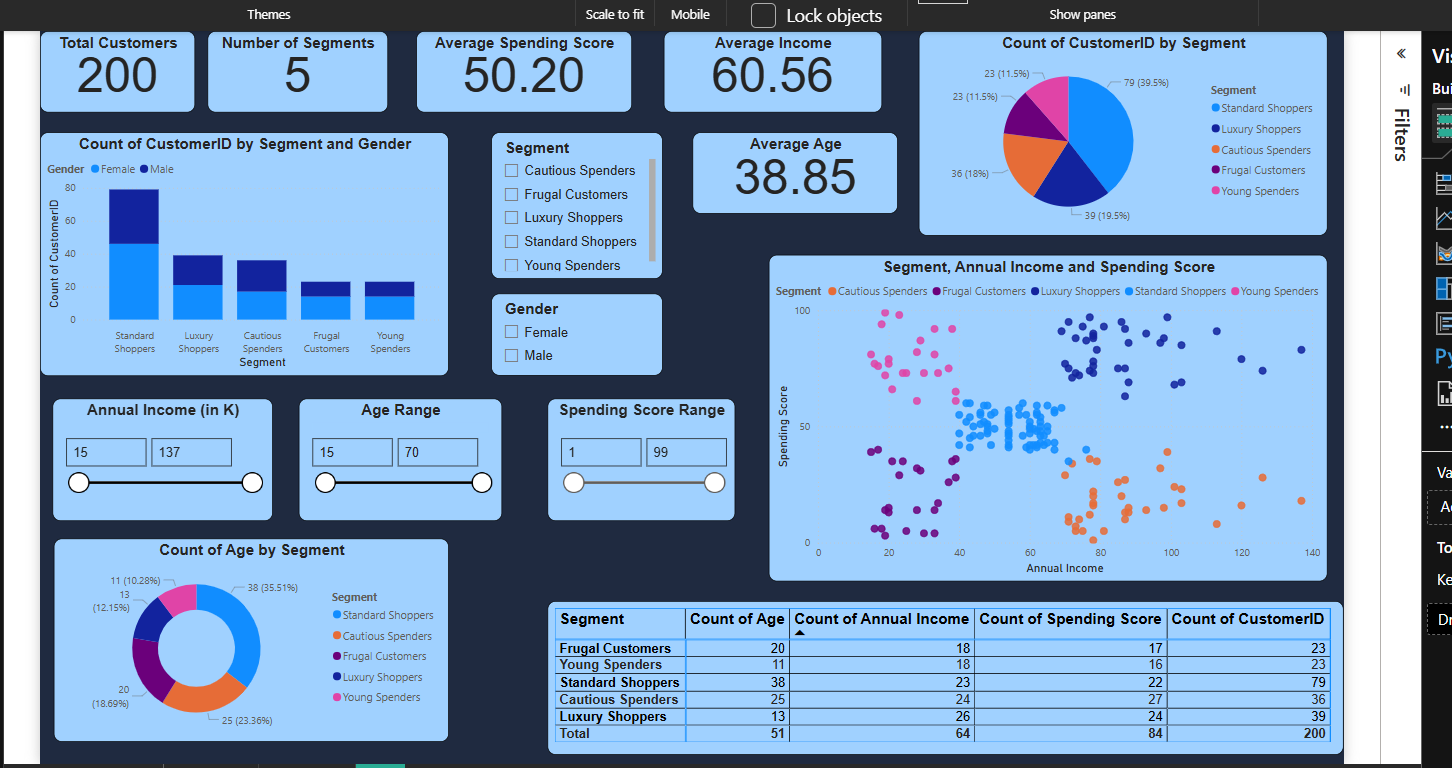

Layout of this report page (visuals, bound fields, positions):
{"tool":"powerbi","page":{"name":"Page 2","canvas":[1600,900],"ordinal":1},"visuals":[{"type":"card","title":"Total Customers","fields":{"Values":["Count(clustered_customers (2).CustomerID)"]},"box":[0,0,190.5,100],"z":0},{"type":"card","title":"Number of Segments","fields":{"Values":["Count(clustered_customers (2).Segment)"]},"box":[205.9,0,221.4,100],"z":1000},{"type":"card","title":"Average Income","fields":{"Values":["Avg(clustered_customers (2).Annual Income)"]},"box":[764.9,0,267.9,100],"z":2000},{"type":"card","title":"Average Spending Score","fields":{"Values":["Avg(clustered_customers (2).Spending Score)"]},"box":[461.4,0,264.8,100],"z":3000},{"type":"pieChart","fields":{"Y":["CountNonNull(clustered_customers (2).CustomerID)"],"Category":["clustered_customers (2).Segment"]},"box":[1077.7,0,501.7,250.8],"z":4000},{"type":"columnChart","fields":{"Category":["clustered_customers (2).Segment"],"Y":["CountNonNull(clustered_customers (2).CustomerID)"],"Series":["clustered_customers (2).Gender"]},"box":[0,123.9,501.7,298.8],"z":5000},{"type":"donutChart","fields":{"Category":["clustered_customers (2).Segment"],"Y":["Count(clustered_customers (2).Age)"]},"box":[17,622.5,484.6,249.3],"z":6000},{"type":"scatterChart","fields":{"X":["clustered_customers (2).Annual Income"],"Y":["clustered_customers (2).Spending Score"],"Series":["clustered_customers (2).Segment"]},"box":[893.4,274.1,685.9,401],"z":7000},{"type":"pivotTable","fields":{"Rows":["clustered_customers (2).Segment"],"Values":["Count(clustered_customers (2).Age)","Count(clustered_customers (2).Annual Income)","Count(clustered_customers (2).Spending Score)","Count(clustered_customers (2).CustomerID)"]},"box":[622.5,699.9,977,188.9],"z":8000},{"type":"slicer","fields":{"Values":["clustered_customers (2).Gender"]},"box":[554.3,322.1,210.6,100.6],"z":9000},{"type":"slicer","fields":{"Values":["clustered_customers (2).Segment"]},"box":[554.3,123.9,210.6,179.6],"z":10000},{"type":"slicer","title":"Age Range","fields":{"Values":["clustered_customers (2).Age (bins)"]},"box":[317.4,450.6,249.3,150.2],"z":11000},{"type":"slicer","title":"Annual Income (in K)","fields":{"Values":["clustered_customers (2).Annual Income"]},"box":[15.5,450.6,270,150],"z":12000},{"type":"card","title":"Average Age","fields":{"Values":["Avg(clustered_customers (2).Age)"]},"box":[800.5,123.9,252.4,100],"z":13000},{"type":"slicer","title":"Spending Score Range","fields":{"Values":["clustered_customers (2).Spending Score"]},"box":[622.5,450.6,230,150.2],"z":14000}]}

Visuals, with their boxes in screenshot pixels (x1, y1, x2, y2):
"Total Customers" card: region(38, 26, 192, 108)
"Number of Segments" card: region(205, 26, 384, 108)
"Average Income" card: region(658, 26, 876, 108)
"Average Spending Score" card: region(412, 26, 627, 108)
pieChart - CountNonNull(clustered_customers (2).CustomerID) x clustered_customers (2).Segment: region(912, 26, 1319, 230)
columnChart - clustered_customers (2).Segment x CountNonNull(clustered_customers (2).CustomerID): region(38, 127, 445, 369)
donutChart - clustered_customers (2).Segment x Count(clustered_customers (2).Age): region(52, 531, 445, 734)
scatterChart - clustered_customers (2).Annual Income x clustered_customers (2).Spending Score: region(763, 249, 1319, 574)
pivotTable - clustered_customers (2).Segment x Count(clustered_customers (2).Age): region(543, 594, 1335, 748)
slicer - clustered_customers (2).Gender: region(487, 288, 658, 369)
slicer - clustered_customers (2).Segment: region(487, 127, 658, 273)
"Age Range" slicer: region(295, 392, 498, 514)
"Annual Income (in K)" slicer: region(50, 392, 269, 514)
"Average Age" card: region(687, 127, 892, 208)
"Spending Score Range" slicer: region(543, 392, 729, 514)
